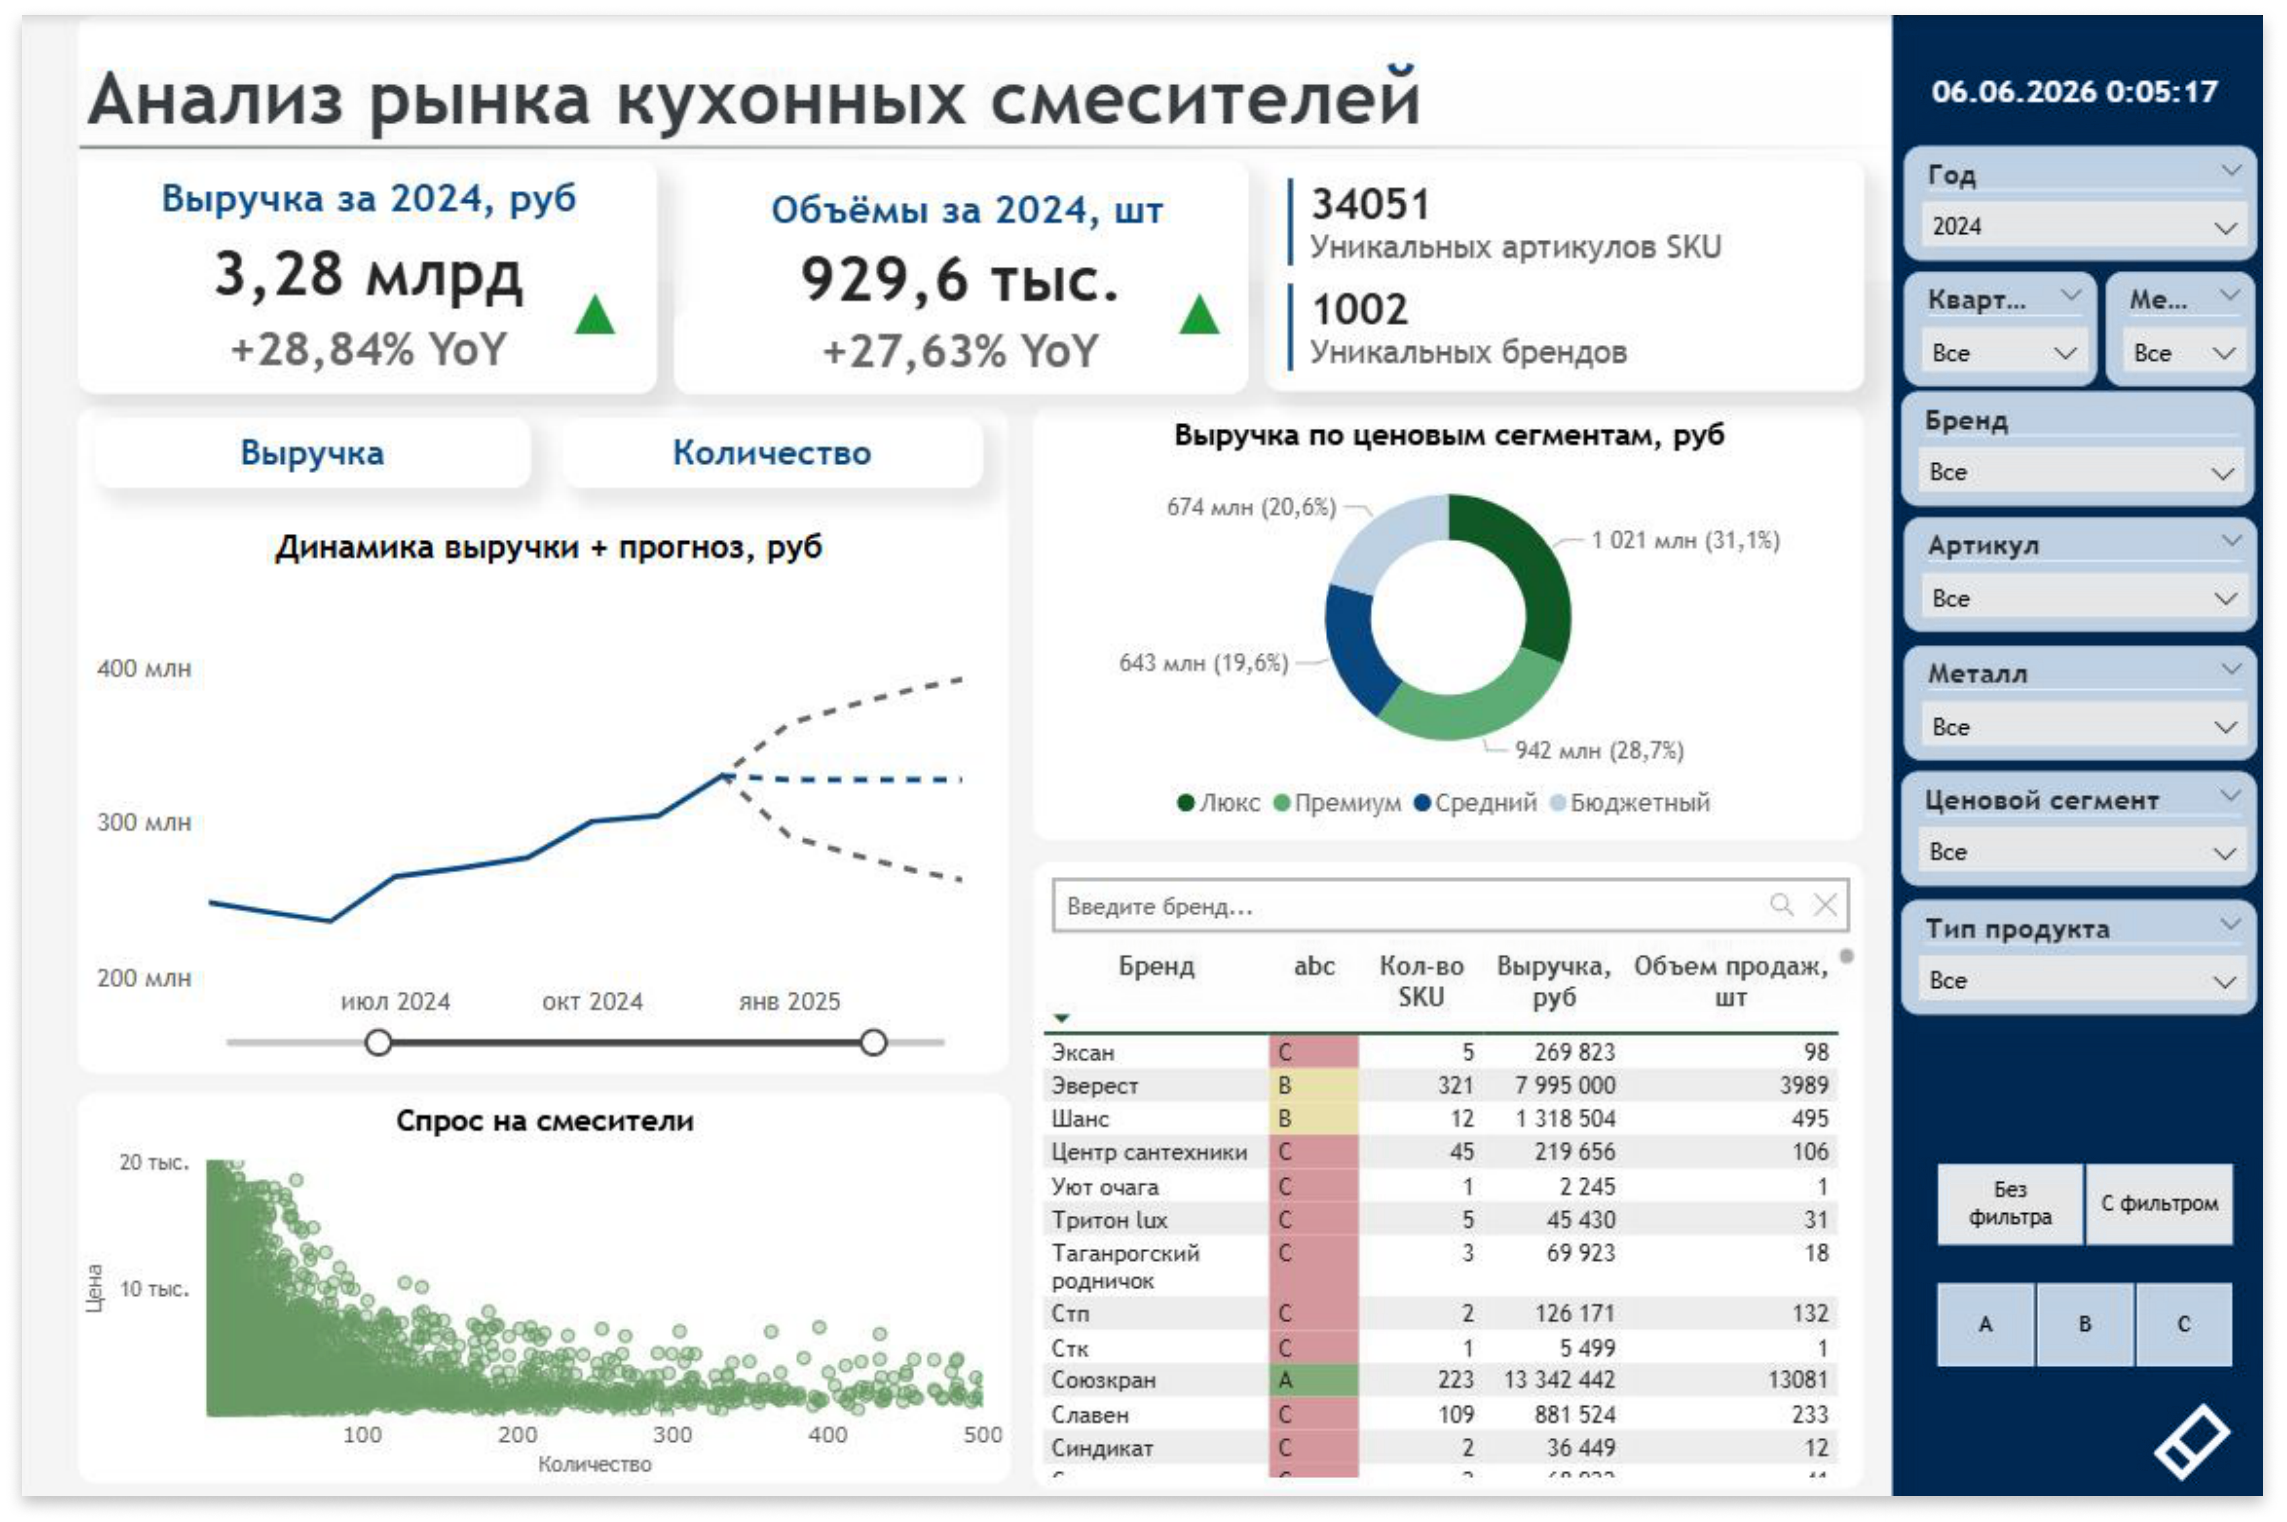

This screenshot's page, from the dashboard's own definition file:
{"tool":"powerbi","page":{"name":"Анализ рынка","canvas":[1280,850],"ordinal":0},"visuals":[{"type":"donutChart","title":"Выручка по ценовым сегментам, руб","fields":{"Y":["Sum(faucets_valid.revenue)"],"Category":["Справочник Ценовые сегменты.Ценовой сегмент"]},"box":[577.1,222.9,472.9,247.1],"z":0},{"type":"image","box":[33.3,0,1051.7,151.7],"z":1000},{"type":"shape","box":[578,482,473,357],"z":2000},{"type":"shape","box":[33.3,223.3,530,380],"z":3000},{"type":"shape","box":[708.3,81.7,341.7,131.7],"z":4000},{"type":"shape","box":[373,84,327,131],"z":5000},{"type":"shape","box":[33.6,83.6,330,132.7],"z":6000},{"type":"card","fields":{"Values":["Таблица мер.Суммарная выручка"]},"box":[34,97,330,98],"z":7000},{"type":"shape","box":[1067.5,0,212.5,850],"z":8000},{"type":"textbox","box":[33.2,15.9,1051.8,63.6],"z":9000},{"type":"slicer","fields":{"Values":["faucets_valid.year"]},"box":[1073.1,75.6,201.2,65],"z":10000},{"type":"slicer","fields":{"Values":["faucets_valid.quarter"]},"box":[1073.1,146.2,110,65],"z":11000},{"type":"card","fields":{"Values":["Таблица мер.Заголовок_1"]},"box":[32.7,81.8,330.9,46.4],"z":12000},{"type":"card","fields":{"Values":["Таблица мер.Индикатор_тренда"]},"box":[292,142,72,50],"z":13000},{"type":"card","fields":{"Values":["Таблица мер.Прирост YoY"]},"box":[34,167,330,47],"z":14000},{"type":"card","fields":{"Values":["Таблица мер.Прирост 24/23"]},"box":[373.6,81.8,312.7,47.3],"z":15000},{"type":"card","fields":{"Values":["Min(Время обновления.Column1)"]},"box":[1066.9,24.4,213.1,46.2],"z":16000},{"type":"slicer","fields":{"Values":["faucets_valid.month.Изменение.Иерархия дат.Месяц"]},"box":[1188.1,146.2,85.6,65],"z":17000},{"type":"slicer","fields":{"Values":["faucets_valid.brand_clean"]},"box":[1072.5,215,201.2,65.6],"z":18000},{"type":"slicer","fields":{"Values":["faucets_valid.cat3"]},"box":[1067.1,647.4,212.9,60],"z":19000},{"type":"lineChart","title":"Динамика выручки + прогноз, руб","fields":{"Category":["faucets_valid.month"],"Y":["Sum(faucets_valid.revenue)"]},"box":[33.3,286.7,530,316.7],"z":20000},{"type":"multiRowCard","fields":{"Values":["Таблица мер.Количество СКЮ"]},"box":[717.8,88.9,333.3,63.3],"z":21000},{"type":"multiRowCard","fields":{"Values":["Таблица мер.Коичество брендов"]},"box":[717.8,147.8,333.3,63.3],"z":22000},{"type":"actionButton","box":[44,229,248,40],"z":24000},{"type":"actionButton","box":[310,229,239,40],"z":25000},{"type":"tableEx","fields":{"Values":["faucets_valid.brand_clean","faucets_valid.brand_abc","Count(faucets_valid.article_name)","Sum(faucets_valid.revenue)","Sum(faucets_valid.quantity)"]},"box":[577.1,525.7,472.9,311.4],"z":27000},{"type":"textSearchSlicerF85E2E78BE4A4D7D9F99ED75B5D71C85","fields":{"fields":["faucets_valid.brand_clean"]},"box":[577.1,481.4,470,44.3],"z":28000},{"type":"scatterChart","title":"Спрос на смесители","fields":{"X":["faucets_valid.quantity"],"Y":["faucets_valid.price"]},"box":[32.5,615,531.2,222.5],"z":29000},{"type":"card","fields":{"Values":["Таблица мер.Суммарный объем"]},"box":[373.3,100,326.7,98.9],"z":30000},{"type":"card","fields":{"Values":["Таблица мер.Прирост YoY объемы"]},"box":[373.3,167.8,326.7,47.8],"z":31000},{"type":"card","fields":{"Values":["Таблица мер.Индикатор_тренда2"]},"box":[636.7,141.7,71.7,50],"z":32000},{"type":"slicer","fields":{"Values":["faucets_valid.article_name"]},"box":[1073.2,285.7,201.4,65],"z":33000},{"type":"slicer","fields":{"Values":["faucets_valid.metal_final"]},"box":[1073.3,355.2,201.4,65],"z":34000},{"type":"slicer","fields":{"Values":["faucets_valid.brand_abc"]},"box":[1067.5,716.2,212.5,61.2],"z":35000},{"type":"slicer","fields":{"Values":["faucets_valid.price_segment"]},"box":[1072.7,425.5,201.8,64.5],"z":36000},{"type":"slicer","fields":{"Values":["faucets_valid.brand_maturity"]},"box":[1072.6,496.2,202.1,64.3],"z":37000},{"type":"slicer","fields":{"Values":["faucets_valid.product_type"]},"box":[1073.6,566.4,202.1,64.3],"z":38000},{"type":"actionButton","box":[1212.5,787.5,62.5,52.5],"z":39000}]}

Visuals, with their boxes in screenshot pixels (x1, y1, x2, y2), scaled from the page's 1280x850 canvas onto the 2287x1522 screenshot:
"Выручка по ценовым сегментам, руб" donutChart: (left=1031, top=399, right=1876, bottom=842)
image: (left=59, top=0, right=1939, bottom=272)
shape: (left=1033, top=863, right=1878, bottom=1502)
shape: (left=59, top=400, right=1006, bottom=1080)
shape: (left=1266, top=146, right=1876, bottom=382)
shape: (left=666, top=150, right=1251, bottom=385)
shape: (left=60, top=150, right=650, bottom=387)
card - Таблица мер.Суммарная выручка: (left=61, top=174, right=650, bottom=349)
shape: (left=1907, top=0, right=2286, bottom=1521)
textbox: (left=59, top=28, right=1939, bottom=142)
slicer - faucets_valid.year: (left=1917, top=135, right=2277, bottom=252)
slicer - faucets_valid.quarter: (left=1917, top=262, right=2114, bottom=378)
card - Таблица мер.Заголовок_1: (left=58, top=146, right=650, bottom=230)
card - Таблица мер.Индикатор_тренда: (left=522, top=254, right=650, bottom=344)
card - Таблица мер.Прирост YoY: (left=61, top=299, right=650, bottom=383)
card - Таблица мер.Прирост 24/23: (left=668, top=146, right=1226, bottom=231)
card - Min(Время обновления.Column1): (left=1906, top=44, right=2286, bottom=126)
slicer - faucets_valid.month.Изменение.Иерархия дат.Месяц: (left=2123, top=262, right=2276, bottom=378)
slicer - faucets_valid.brand_clean: (left=1916, top=385, right=2276, bottom=502)
slicer - faucets_valid.cat3: (left=1907, top=1159, right=2286, bottom=1267)
"Динамика выручки + прогноз, руб" lineChart: (left=59, top=513, right=1006, bottom=1080)
multiRowCard - Таблица мер.Количество СКЮ: (left=1283, top=159, right=1878, bottom=273)
multiRowCard - Таблица мер.Коичество брендов: (left=1283, top=265, right=1878, bottom=378)
actionButton: (left=79, top=410, right=522, bottom=482)
actionButton: (left=554, top=410, right=981, bottom=482)
tableEx - faucets_valid.brand_clean x faucets_valid.brand_abc: (left=1031, top=941, right=1876, bottom=1499)
textSearchSlicerF85E2E78BE4A4D7D9F99ED75B5D71C85 - faucets_valid.brand_clean: (left=1031, top=862, right=1871, bottom=941)
"Спрос на смесители" scatterChart: (left=58, top=1101, right=1007, bottom=1500)
card - Таблица мер.Суммарный объем: (left=667, top=179, right=1251, bottom=356)
card - Таблица мер.Прирост YoY объемы: (left=667, top=300, right=1251, bottom=386)
card - Таблица мер.Индикатор_тренда2: (left=1138, top=254, right=1266, bottom=343)
slicer - faucets_valid.article_name: (left=1918, top=512, right=2277, bottom=628)
slicer - faucets_valid.metal_final: (left=1918, top=636, right=2278, bottom=752)
slicer - faucets_valid.brand_abc: (left=1907, top=1282, right=2286, bottom=1392)
slicer - faucets_valid.price_segment: (left=1917, top=762, right=2277, bottom=877)
slicer - faucets_valid.brand_maturity: (left=1916, top=888, right=2278, bottom=1004)
slicer - faucets_valid.product_type: (left=1918, top=1014, right=2279, bottom=1129)
actionButton: (left=2166, top=1410, right=2278, bottom=1504)
